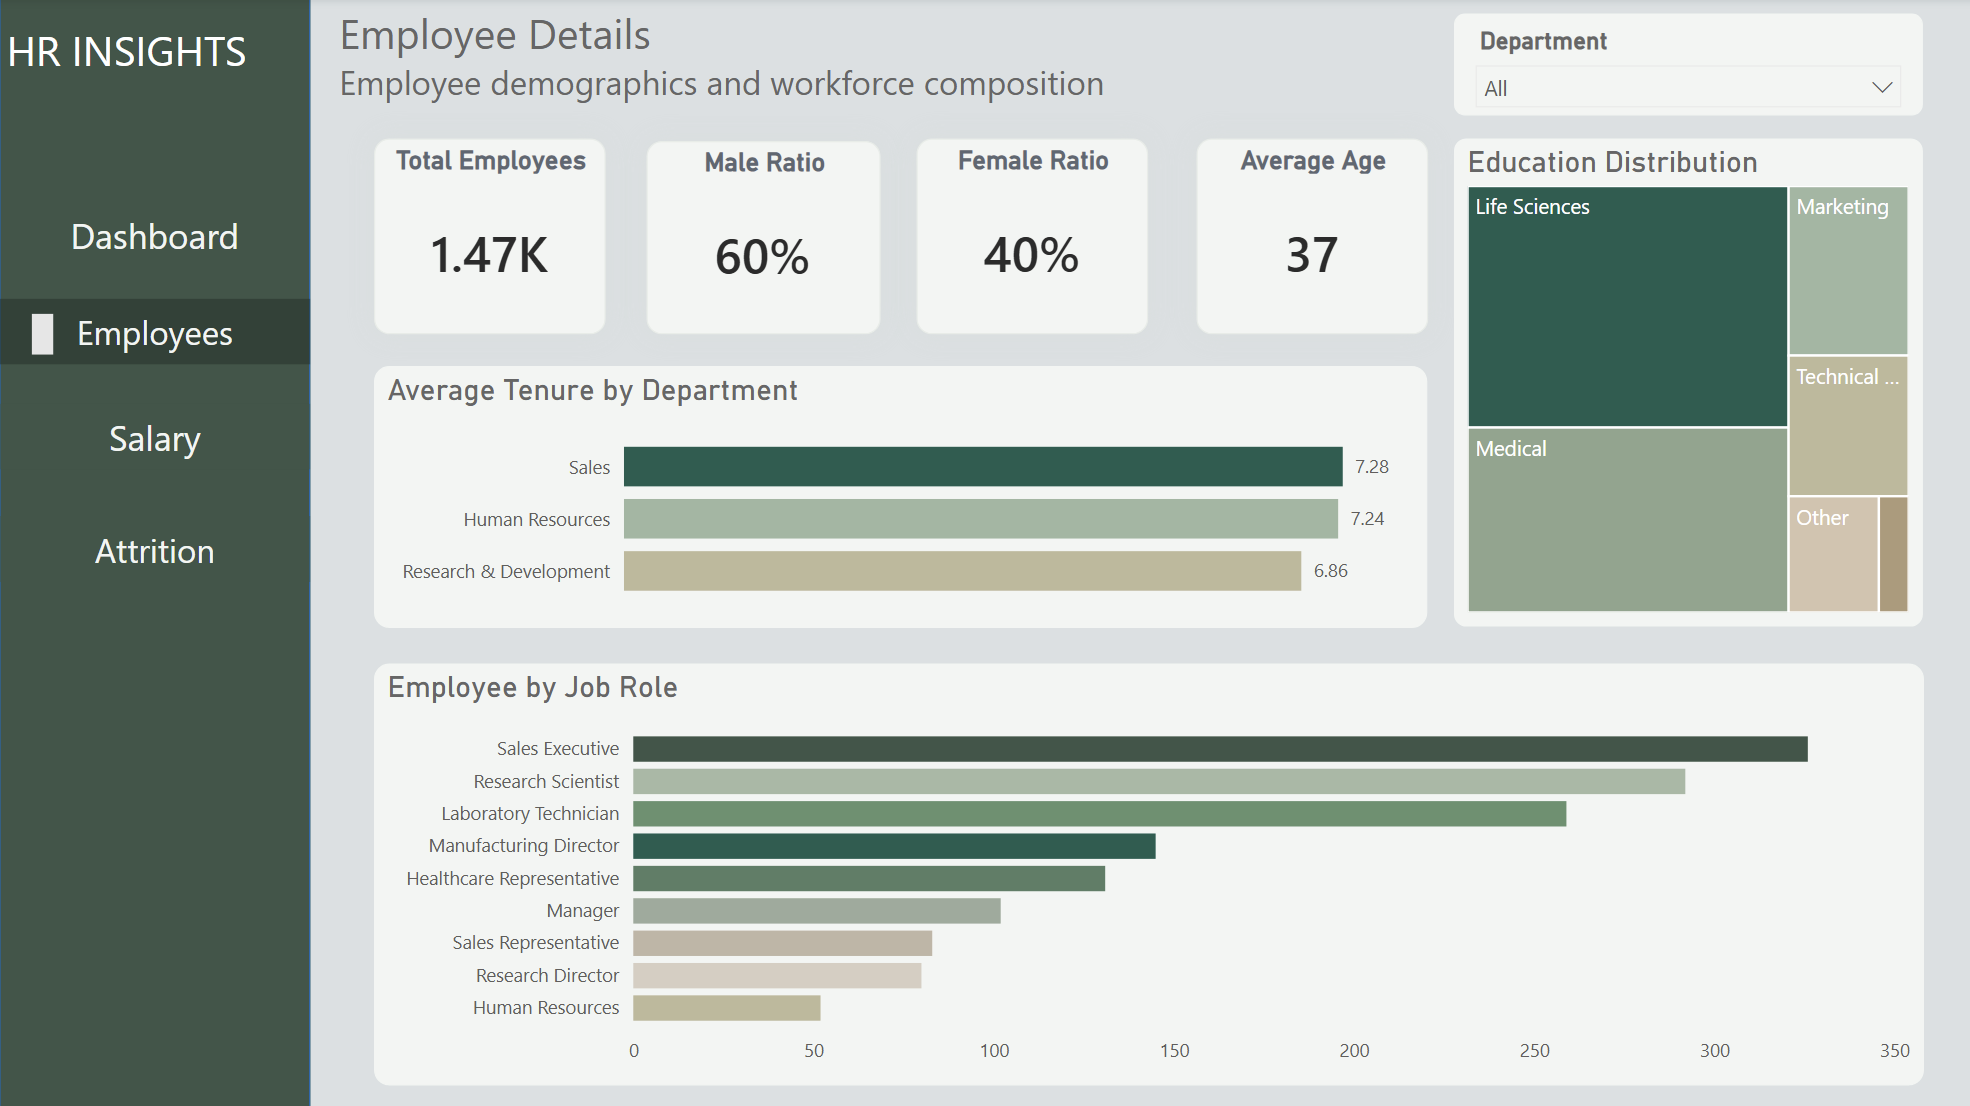

What the dashboard file says about the page in this screenshot:
{"tool":"powerbi","page":{"name":"Employee Details ","canvas":[1280,720],"ordinal":1},"visuals":[{"type":"shape","box":[0,0,201.8,719.6],"z":0},{"type":"actionButton","box":[0,132.1,201.8,42.9],"z":1000},{"type":"actionButton","box":[0,196.4,201.8,42.9],"z":2000},{"type":"actionButton","box":[0,337.5,201.8,42.9],"z":3000},{"type":"actionButton","box":[0,264.3,201.8,42.9],"z":4000},{"type":"shape","box":[21.4,205.4,14.3,26.8],"z":5000},{"type":"textbox","box":[0,10.7,201.8,82.1],"z":6000},{"type":"cardVisual","title":"Total Employees","fields":{"Data":["CountNonNull(WA_Fn-UseC_-HR-Employee-Attrition.EmployeeCount)"]},"box":[242.9,92.9,150,126.8],"z":7000},{"type":"cardVisual","title":"Average Age","fields":{"Data":["WA_Fn-UseC_-HR-Employee-Attrition.Average Age Rounded"]},"box":[775,92.9,150,126.8],"z":8000},{"type":"cardVisual","title":"Male Ratio","fields":{"Data":["WA_Fn-UseC_-HR-Employee-Attrition.Male %"]},"box":[419.6,94.6,151.8,125],"z":9000},{"type":"cardVisual","title":"Female Ratio","fields":{"Data":["WA_Fn-UseC_-HR-Employee-Attrition.Female %"]},"box":[594.6,92.9,150,126.8],"z":10000},{"type":"barChart","title":"Employee by Job Role","fields":{"Category":["WA_Fn-UseC_-HR-Employee-Attrition.JobRole"],"Y":["CountNonNull(WA_Fn-UseC_-HR-Employee-Attrition.EmployeeCount)"]},"box":[242.9,432.1,1003.6,273.2],"z":11000},{"type":"treemap","title":"Education Distribution","fields":{"Group":["WA_Fn-UseC_-HR-Employee-Attrition.EducationField"],"Values":["CountNonNull(WA_Fn-UseC_-HR-Employee-Attrition.EmployeeCount)"]},"box":[942.9,92.9,303.6,316.1],"z":12000},{"type":"barChart","title":"Average Tenure by Department","fields":{"Category":["WA_Fn-UseC_-HR-Employee-Attrition.Department"],"Y":["Avg(WA_Fn-UseC_-HR-Employee-Attrition.YearsAtCompany)"]},"box":[242.9,239.3,682.1,169.6],"z":13000},{"type":"textbox","box":[216.1,0,967.9,105.4],"z":14000},{"type":"slicer","fields":{"Values":["WA_Fn-UseC_-HR-Employee-Attrition.Department"]},"box":[942.9,10.7,303.6,66.1],"z":15000}]}

Visuals, with their boxes on the page's 1280x720 design canvas (x1, y1, x2, y2). These are canvas units, not pixel positions in the 1970x1106 screenshot, which may show the page scaled, cropped or inside an application window:
shape: 0,0,202,720
actionButton: 0,132,202,175
actionButton: 0,196,202,239
actionButton: 0,338,202,380
actionButton: 0,264,202,307
shape: 21,205,36,232
textbox: 0,11,202,93
"Total Employees" cardVisual: 243,93,393,220
"Average Age" cardVisual: 775,93,925,220
"Male Ratio" cardVisual: 420,95,571,220
"Female Ratio" cardVisual: 595,93,745,220
"Employee by Job Role" barChart: 243,432,1246,705
"Education Distribution" treemap: 943,93,1246,409
"Average Tenure by Department" barChart: 243,239,925,409
textbox: 216,0,1184,105
slicer - WA_Fn-UseC_-HR-Employee-Attrition.Department: 943,11,1246,77
